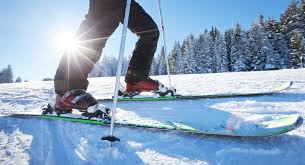skis: (8, 78, 304, 142)
